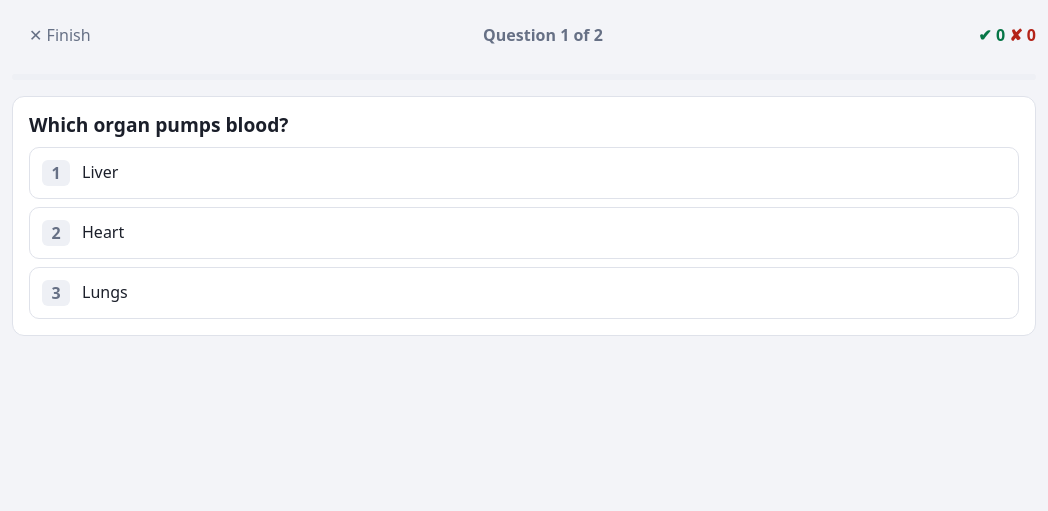
Test case: Quiz › shows feedback, moves on, and reports every answer at the end
Later steps or results of the test are not shown.
Expected: the text "Question 1 of 2" is shown, [483,23,603,47]
Click the button "2 Heart": coordinates (103, 232) [29,207,1019,259]
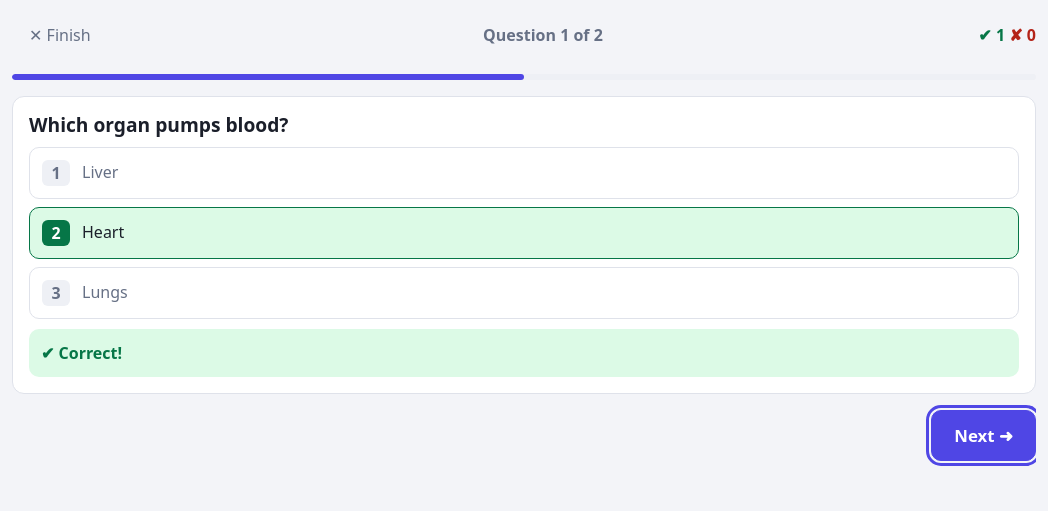
Result: the message shows "Correct!" at [41,342,122,364]
Result: the button "1 Liver" is disabled at [29,147,1019,199]
Click the button "Next ➜": coordinates (984, 436) [931,410,1036,461]
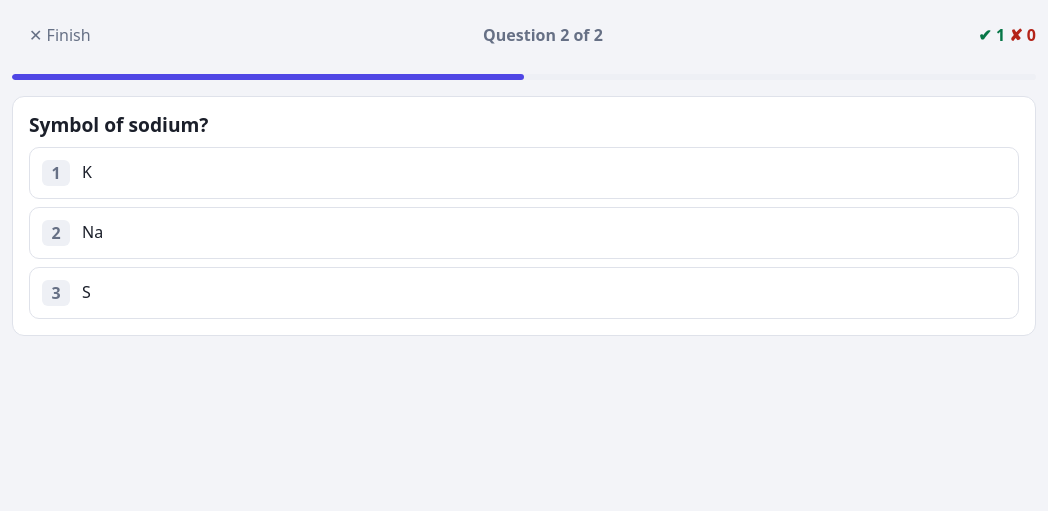
Result: the heading "Symbol of sodium?" is shown at [29,111,208,138]
Click the button "3 S": coordinates (56, 293) [29,267,1019,319]
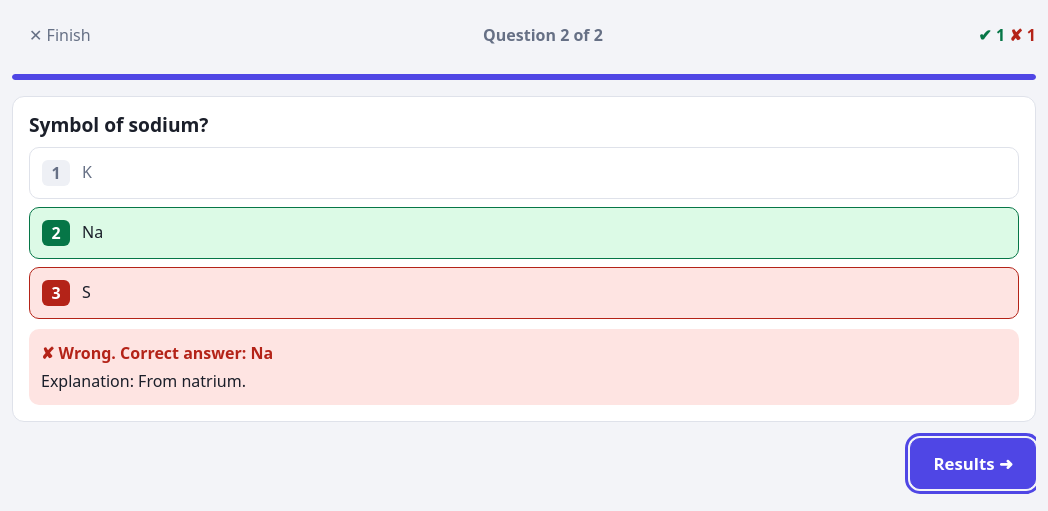
Result: the message shows "Wrong. Correct answer: Na" at [41,342,273,364]
Result: the text "Explanation: From natrium." is shown at [41,370,246,392]
